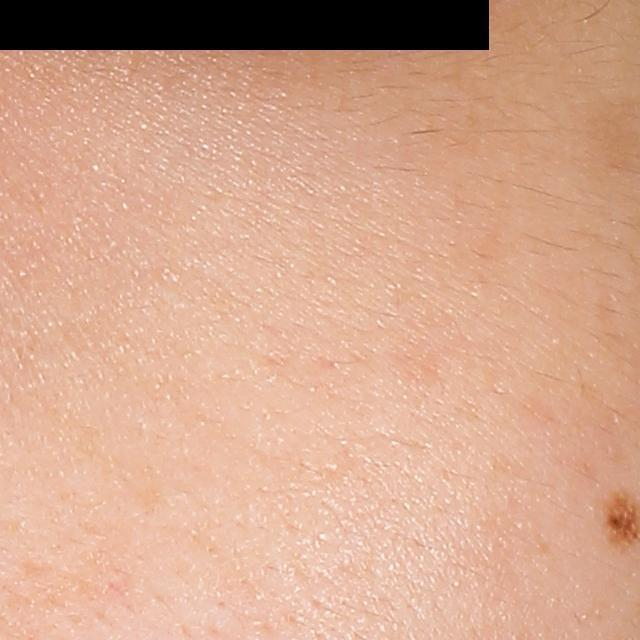melasma: (587, 105, 637, 168)
nevus: (599, 496, 640, 549)
